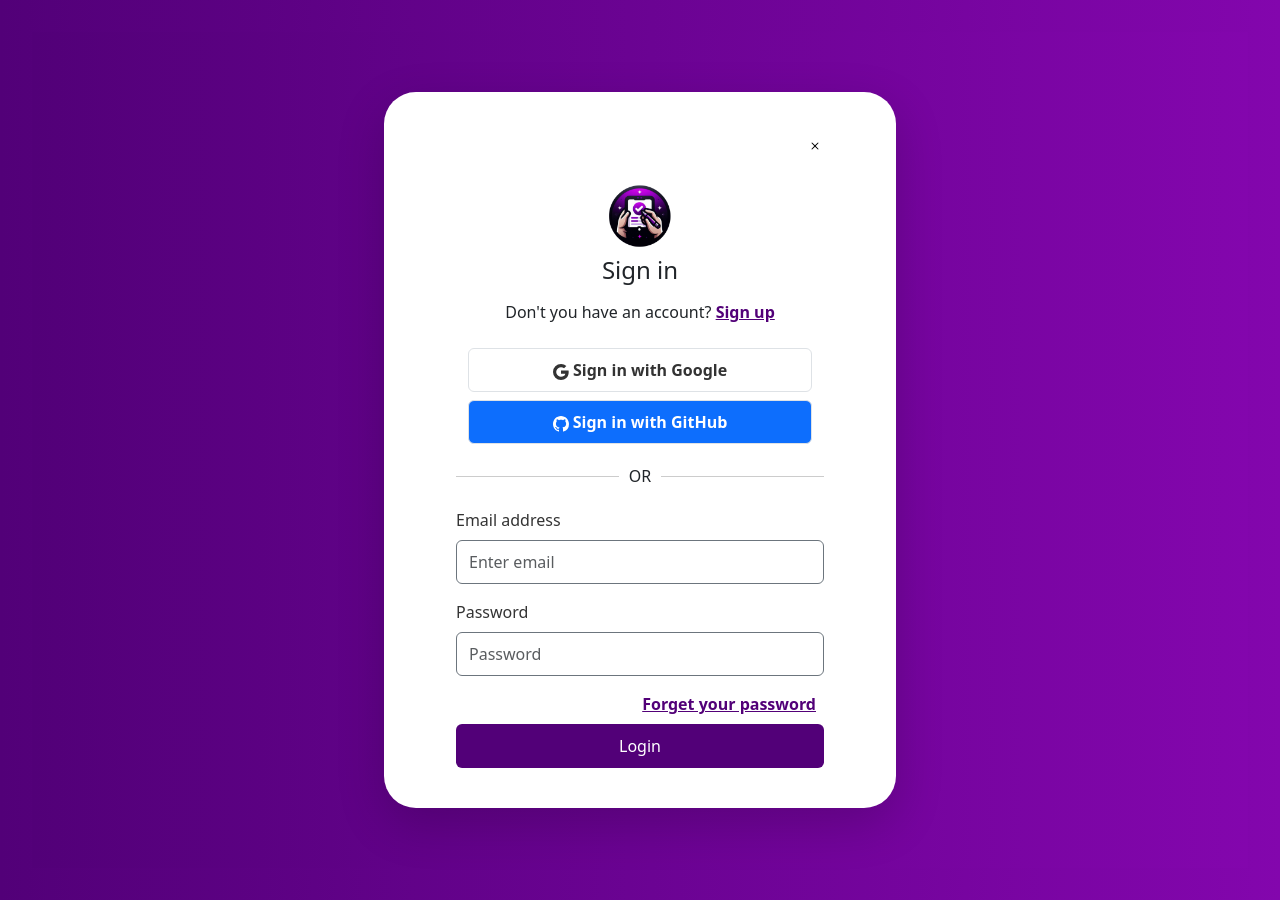
Scenario: LoginPage authentication › does not submit when required fields are empty
The width and height of the screenshot is (1280, 900).
Click the button "Login".
click(640, 746)  # box [456,724,824,768]
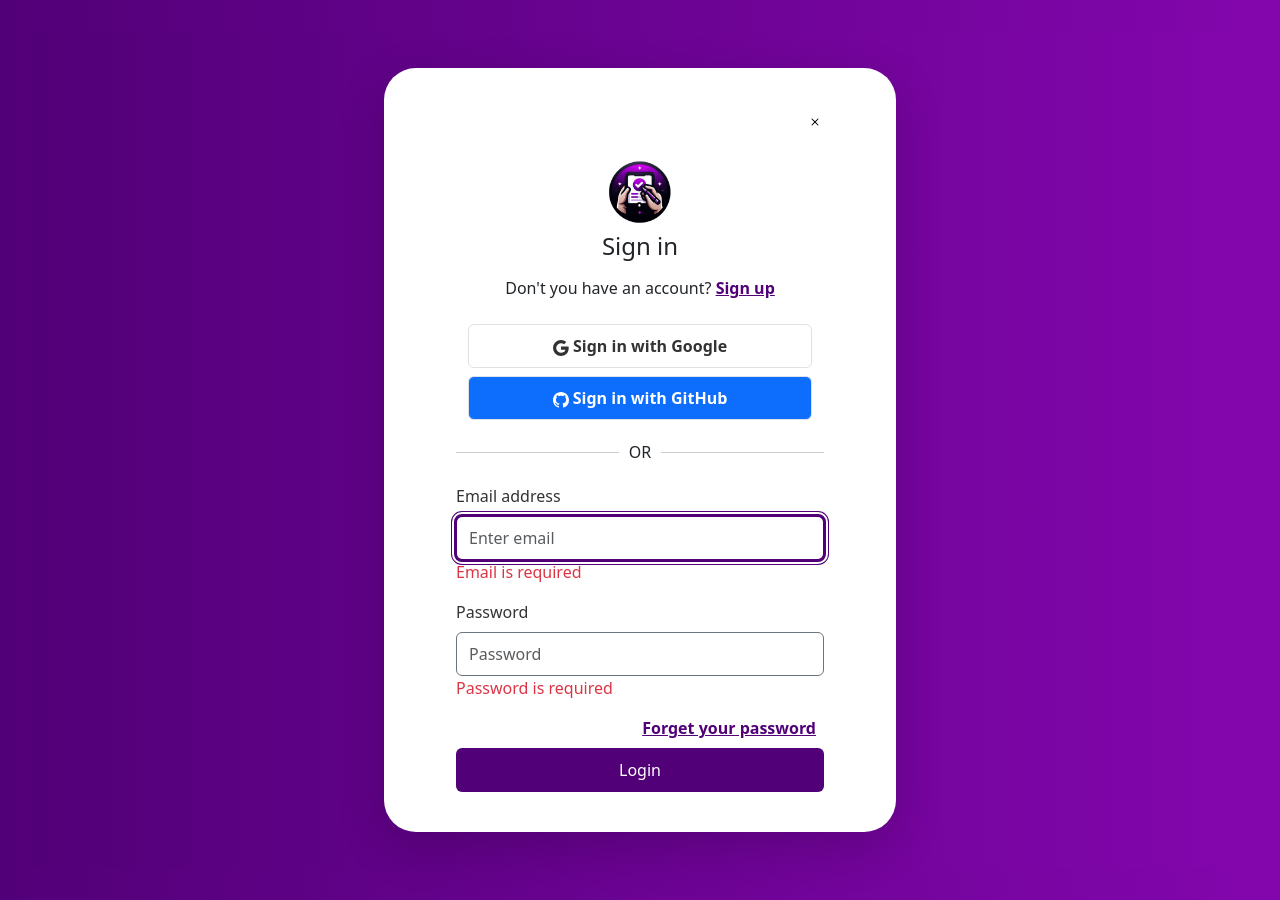
Expected: the text "Email is required" is shown, [456,561,582,583]
Expected: the text "Password is required" is shown, [456,677,613,699]
